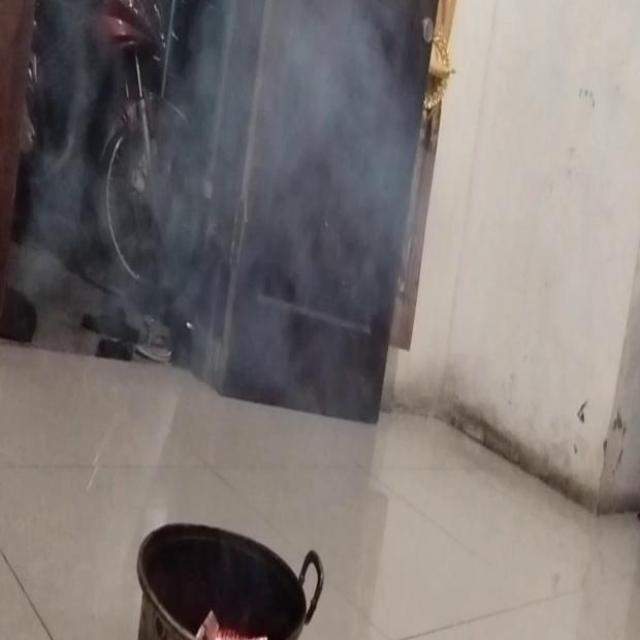fire: (40, 0, 419, 355)
